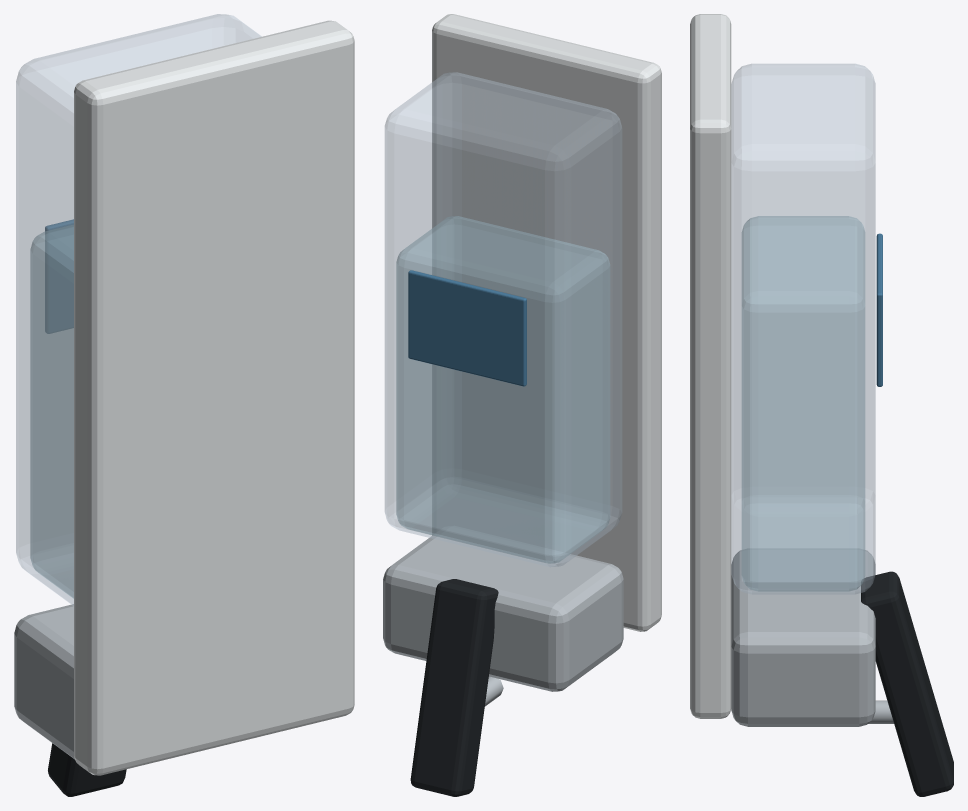
File: Hand_Sanitizer_Dispenser.glb
The picture shows the model from 3 angles, left to right: view 1: azimuth 30°, elevation 25°; view 2: azimuth 150°, elevation 25°; view 3: azimuth 270°, elevation 25°; orthographic projection. The views are drawn at different scales.
Parts seen in each view (by area): view 1: BackPlate.001, Bottle.001, Liquid, PumpHead, Label, Lever; view 2: BackPlate.001, Bottle.001, Liquid, PumpHead, Lever, Label; view 3: Bottle.001, Liquid, BackPlate.001, PumpHead, Lever, Label.
Boxes of the visible parts, x1,y1,x2,y2 form: BackPlate.001: (74,20,354,775); Bottle.001: (16,14,261,605); Liquid: (30,224,73,598); PumpHead: (14,604,74,759); Label: (45,219,73,333); Lever: (48,743,126,796); BackPlate.001: (432,14,661,631); Bottle.001: (384,72,622,567); Liquid: (396,216,610,563); PumpHead: (383,526,623,691); Lever: (410,579,498,796); Label: (408,270,526,386); Bottle.001: (731,63,875,594); Liquid: (741,216,865,591); BackPlate.001: (690,14,731,718); PumpHead: (731,549,875,726); Lever: (861,571,953,796); Label: (876,233,882,386).
Bounding box in the file's own units: 0.13 × 0.3847 × 0.1279.
